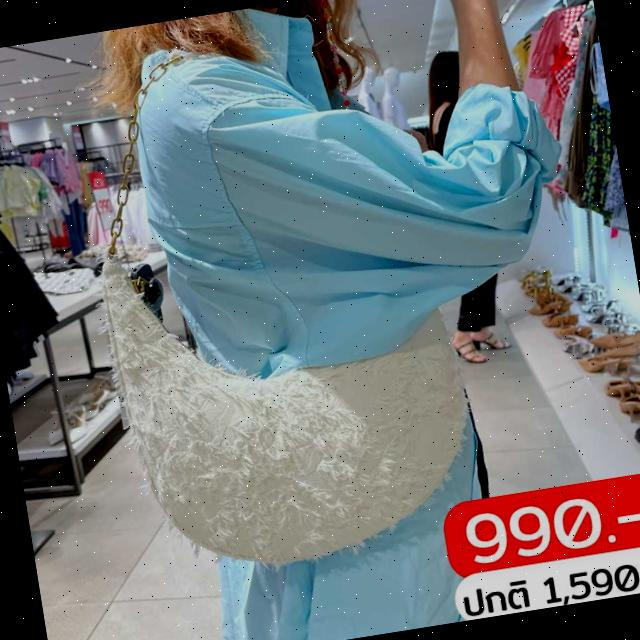Handbag: (80, 215, 506, 602)
